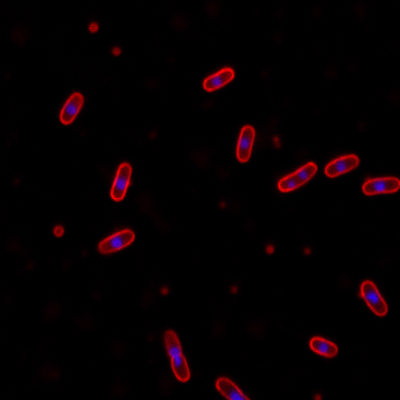CAM: (276, 161, 318, 193), (358, 278, 389, 317), (99, 228, 138, 255), (322, 154, 361, 180), (57, 91, 85, 125), (109, 161, 132, 202), (201, 67, 236, 92), (236, 123, 256, 164), (359, 176, 400, 196), (307, 333, 339, 358)
Oblique: (163, 329, 192, 382)
Vesicle: (85, 21, 100, 35), (269, 133, 282, 149), (52, 225, 65, 239), (263, 242, 276, 255), (110, 45, 123, 57), (216, 198, 228, 210), (160, 285, 171, 297), (229, 284, 240, 295), (303, 245, 313, 256)
